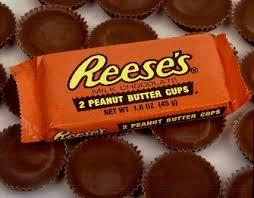reese: (13, 29, 241, 146)
